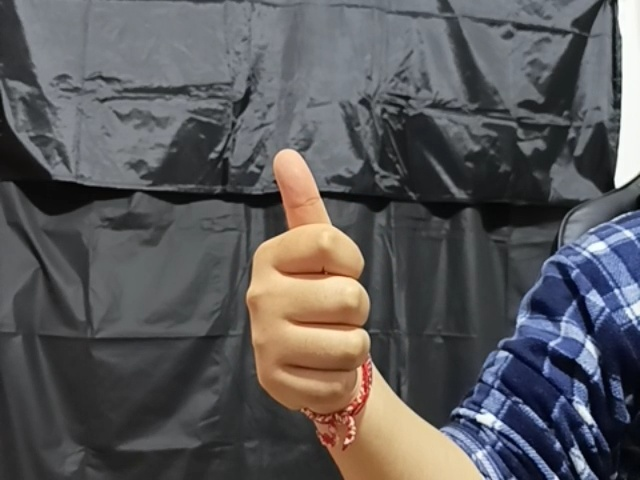A: (238, 147, 379, 408)
